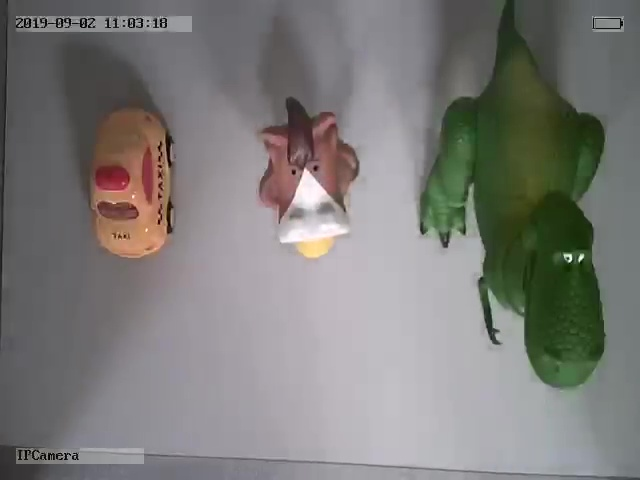car: (88, 104, 177, 259)
horse: (255, 96, 361, 260)
rex: (418, 3, 607, 391)
